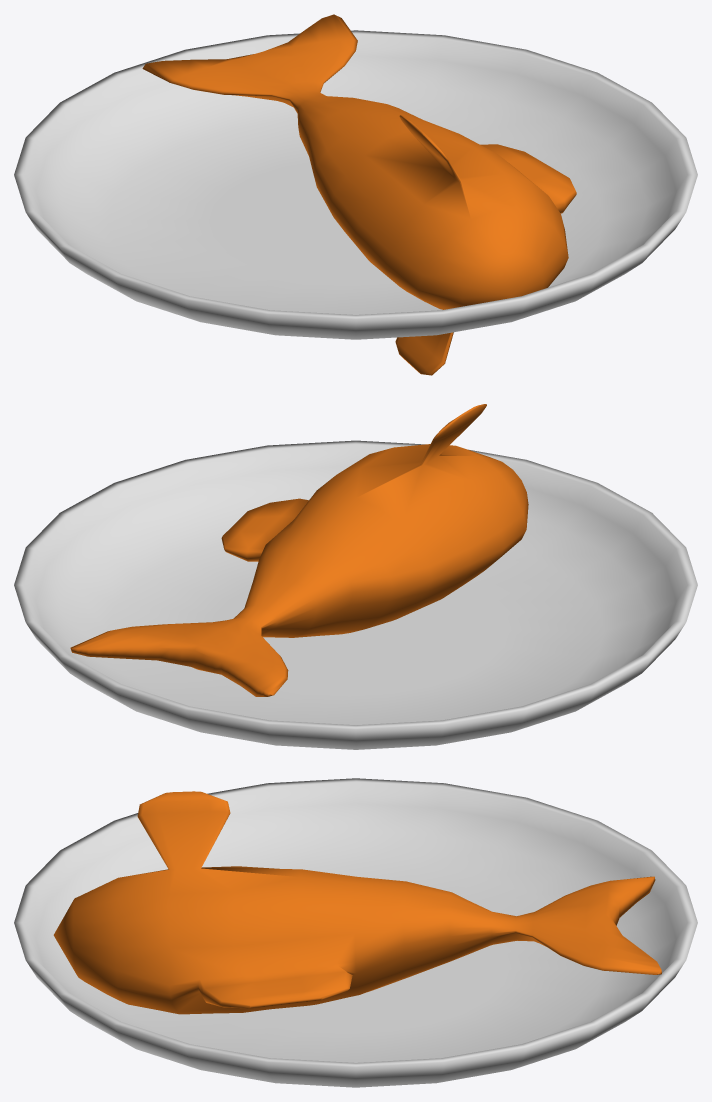
The model's file is fishplate.gltf.
3 views of the same model, one above another, from view 1: azimuth 30°, elevation 25°; view 2: azimuth 150°, elevation 25°; view 3: azimuth 270°, elevation 25° (orthographic).
Parts seen in each view (by area): view 1: fish low poly; view 2: fish low poly; view 3: fish low poly.
Part boxes in pixels (x1=…): fish low poly: x1=14, y1=14, x2=697, y2=375; fish low poly: x1=14, y1=404, x2=697, y2=749; fish low poly: x1=14, y1=778, x2=697, y2=1087.
Size of the model in its own units: 0.6896 by 0.2722 by 0.6896.
